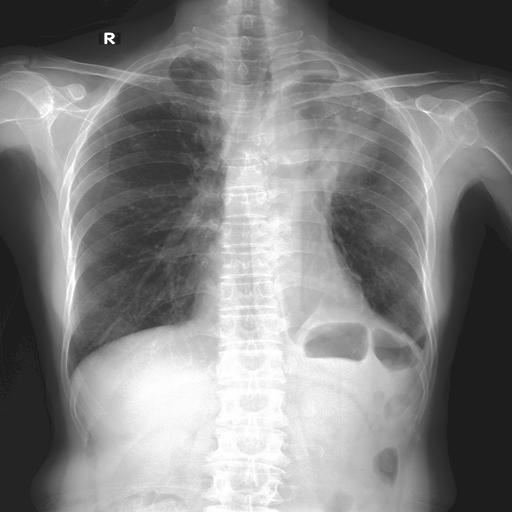Aortic enlargement: (294, 75, 382, 179)
Calcification: (275, 48, 386, 90), (130, 53, 185, 78), (405, 329, 431, 360)
Consolidation: (263, 109, 308, 160)
ILD: (373, 195, 405, 255)
Pleural effusion: (405, 329, 431, 360)
Pleural thickening: (285, 79, 380, 181), (373, 195, 405, 255)
Pneumothorax: (151, 53, 210, 116), (328, 236, 361, 290), (333, 96, 366, 126)
Pulmonary fibrosis: (294, 75, 382, 179), (142, 75, 163, 89), (349, 98, 358, 105), (335, 115, 341, 123), (356, 106, 363, 112), (327, 126, 334, 129), (353, 116, 358, 120)
